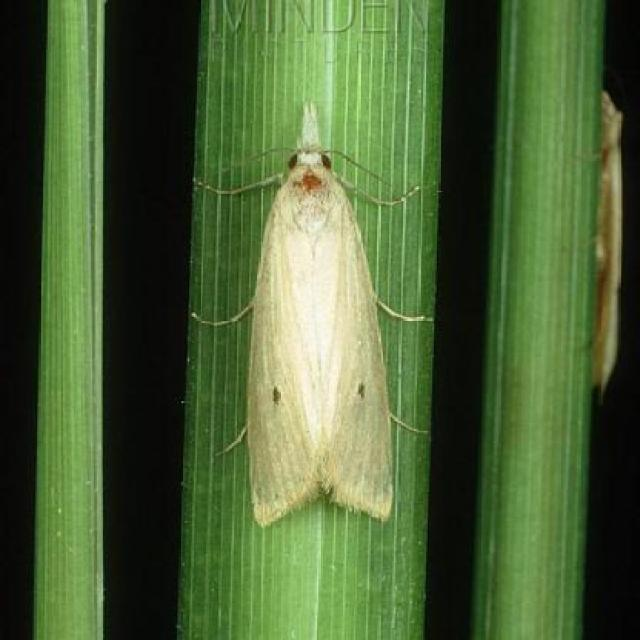stem-borer: (223, 93, 397, 530)
